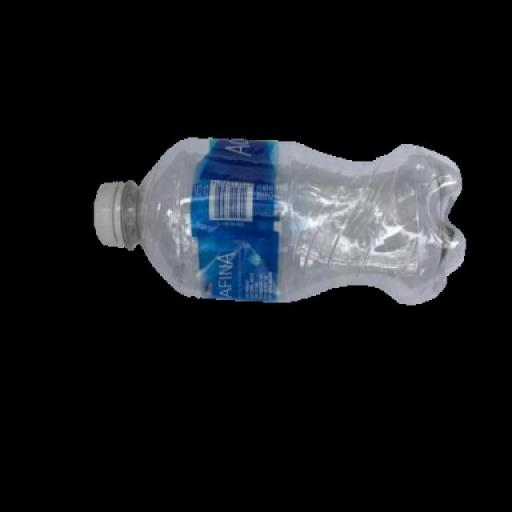plastic: (91, 134, 471, 312)
